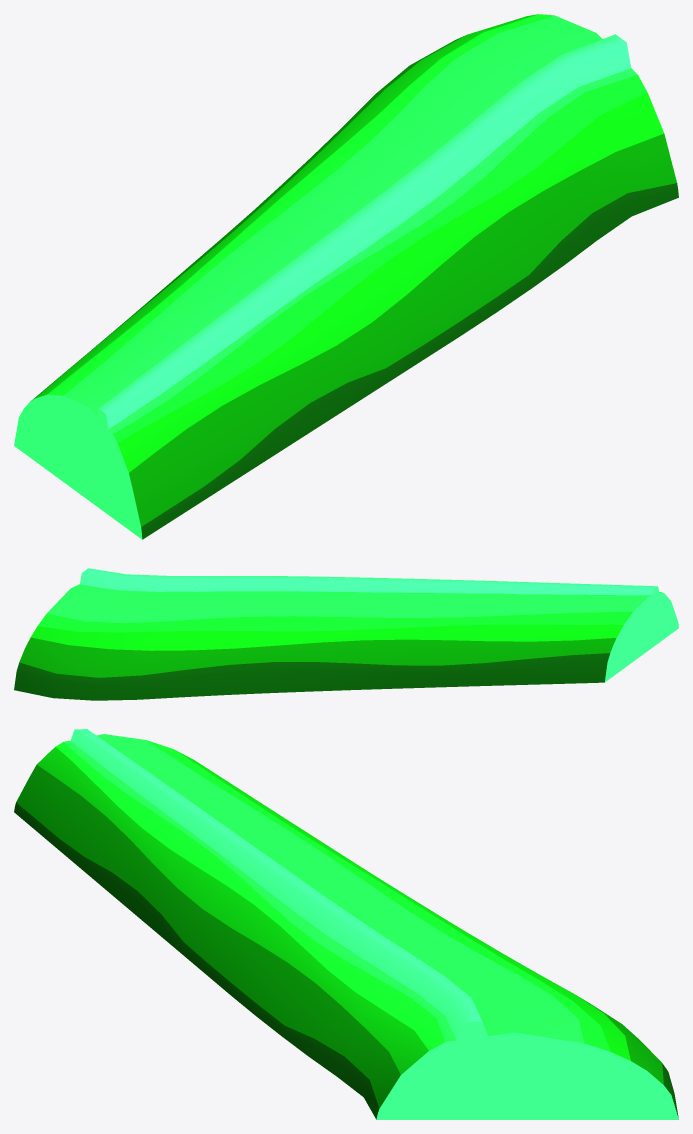
File: shot_sonic_b249.glb
3 views of the same model, one above another, from view 1: azimuth 30°, elevation 25°; view 2: azimuth 150°, elevation 25°; view 3: azimuth 270°, elevation 25° (orthographic). The views are drawn at different scales.
Visible parts, largest first — view 1: sonic_chevron_wave_b249, sonic_chevron_core_b249; view 2: sonic_chevron_wave_b249, sonic_chevron_core_b249; view 3: sonic_chevron_wave_b249, sonic_chevron_core_b249.
Boxes of the visible parts, x1=… form: sonic_chevron_wave_b249: x1=14, y1=14, x2=678, y2=539; sonic_chevron_core_b249: x1=90, y1=34, x2=631, y2=519; sonic_chevron_wave_b249: x1=14, y1=584, x2=678, y2=700; sonic_chevron_core_b249: x1=80, y1=568, x2=661, y2=649; sonic_chevron_wave_b249: x1=14, y1=734, x2=678, y2=1119; sonic_chevron_core_b249: x1=71, y1=729, x2=503, y2=1119.
Size of the model in its own units: 12 by 1.78 by 10.96.
